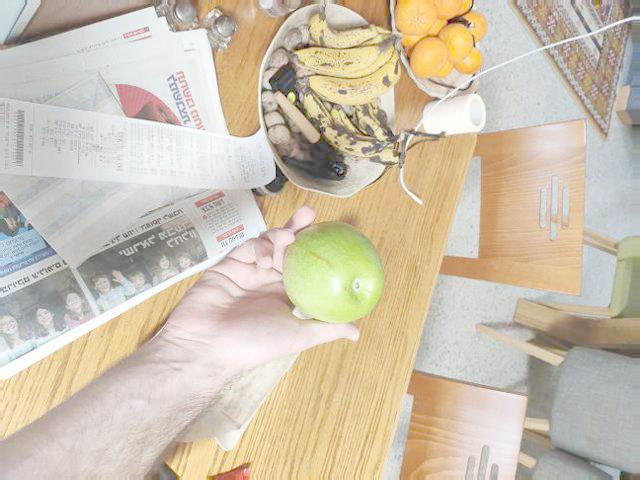apple: (277, 218, 394, 325)
